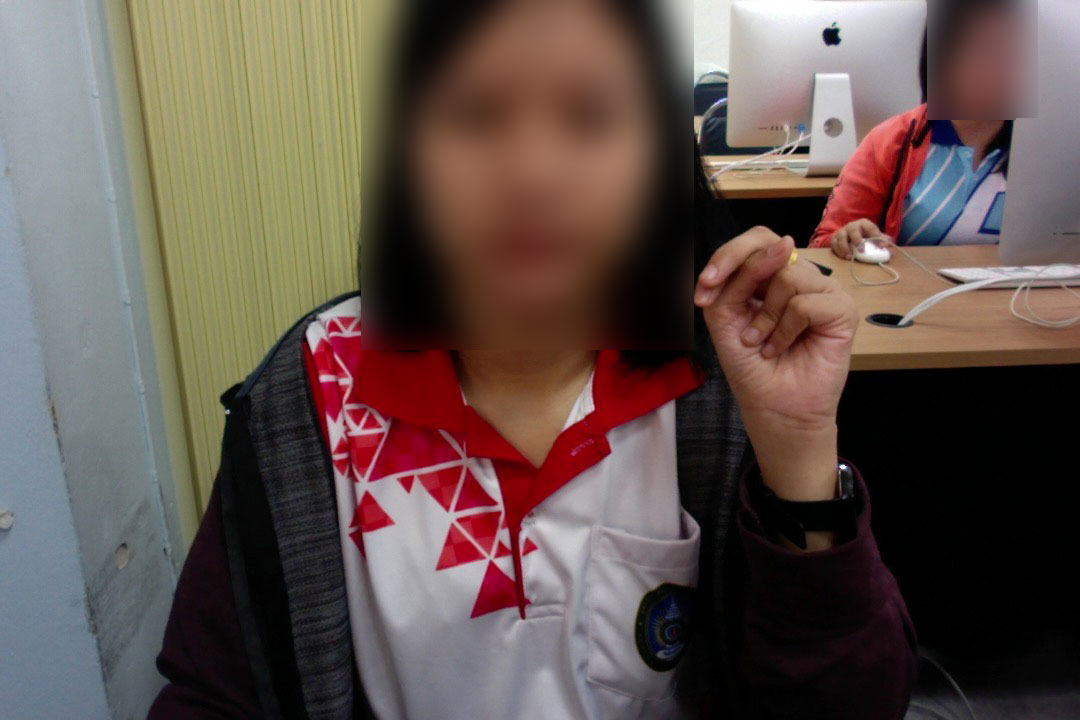nor: (690, 220, 865, 455)
